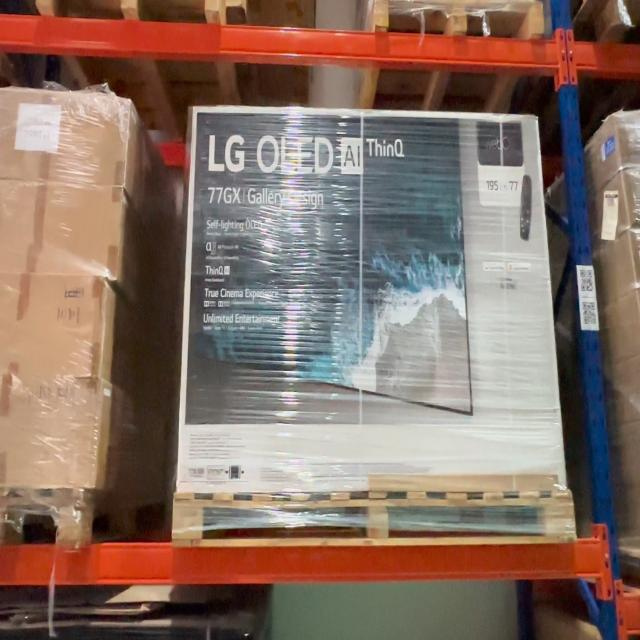box: (194, 114, 538, 489)
